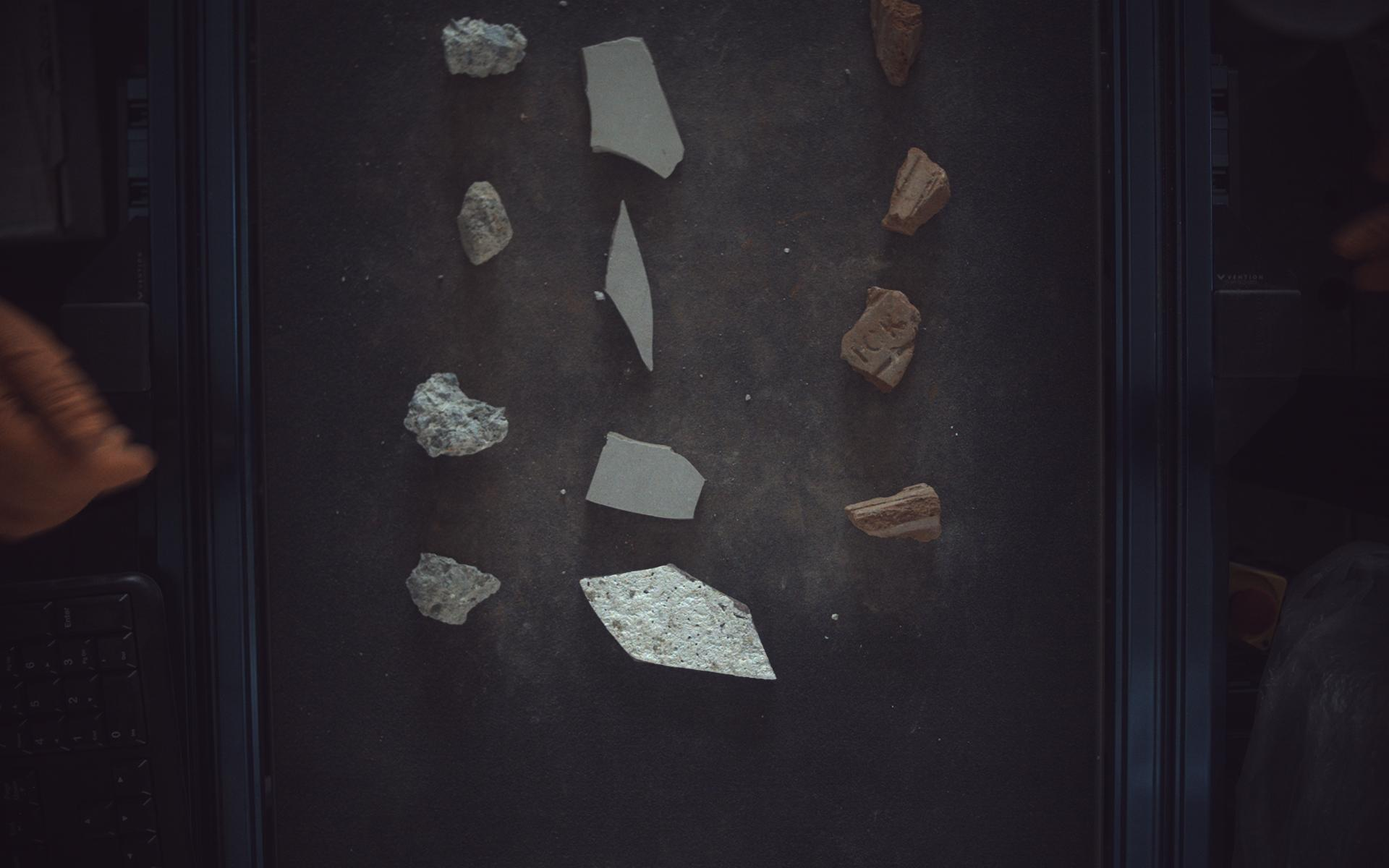brick: (842, 286, 923, 392), (884, 146, 953, 235), (847, 484, 943, 542), (872, 1, 925, 85)
concrete: (404, 373, 509, 458), (406, 554, 501, 626), (442, 16, 526, 76), (457, 180, 513, 265)
tile: (581, 564, 777, 681), (583, 35, 685, 177), (587, 432, 706, 520), (606, 200, 655, 370)
